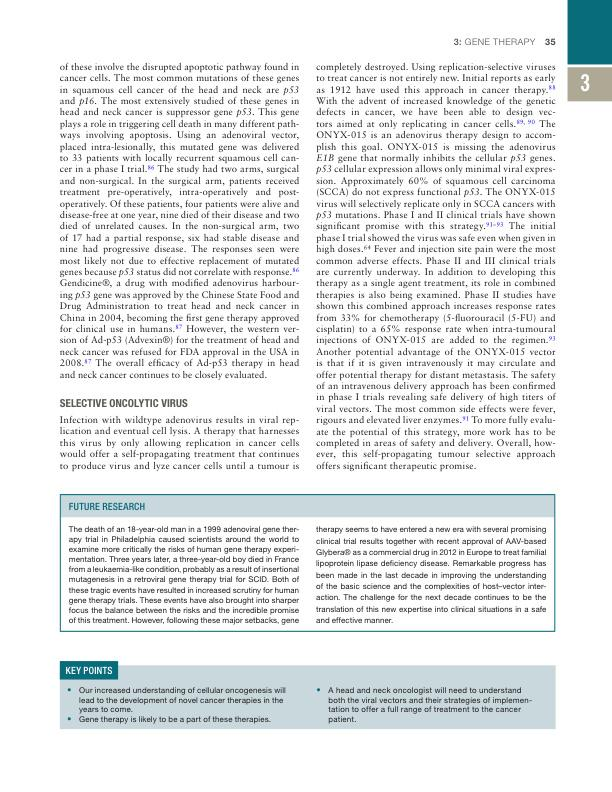caption: (68, 501, 146, 511), (65, 666, 113, 676)
header: (453, 37, 536, 46)
list: (316, 685, 533, 726), (66, 686, 287, 725)
section-heading: (59, 398, 189, 409)
text: (314, 61, 557, 474), (58, 61, 300, 382), (67, 524, 300, 626), (315, 524, 548, 624), (58, 414, 300, 472)
